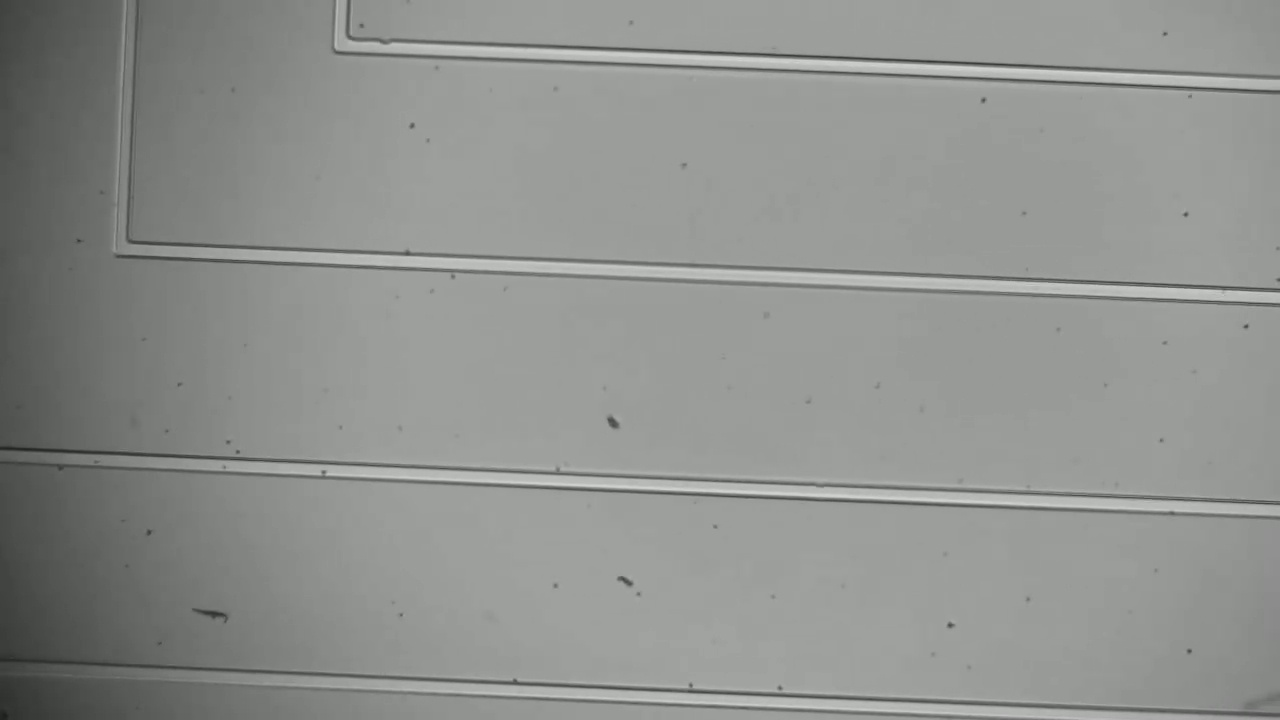edge_bite: (370, 31, 409, 64)
